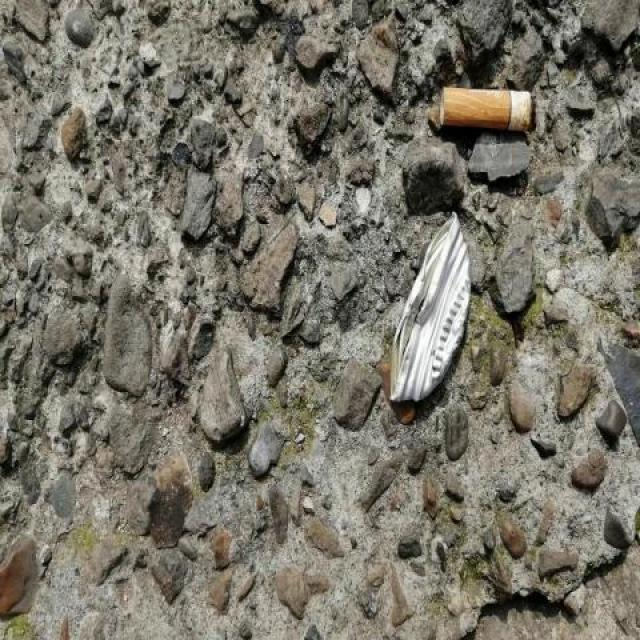non-organic waste: (432, 81, 540, 138)
